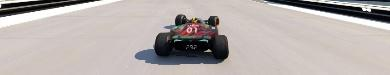Car: (153, 14, 229, 59)
